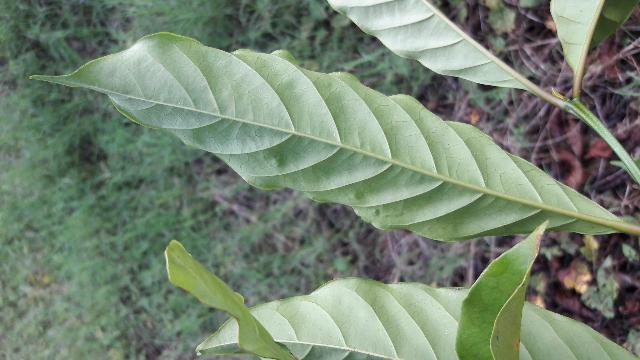healthy: (33, 32, 622, 246)
